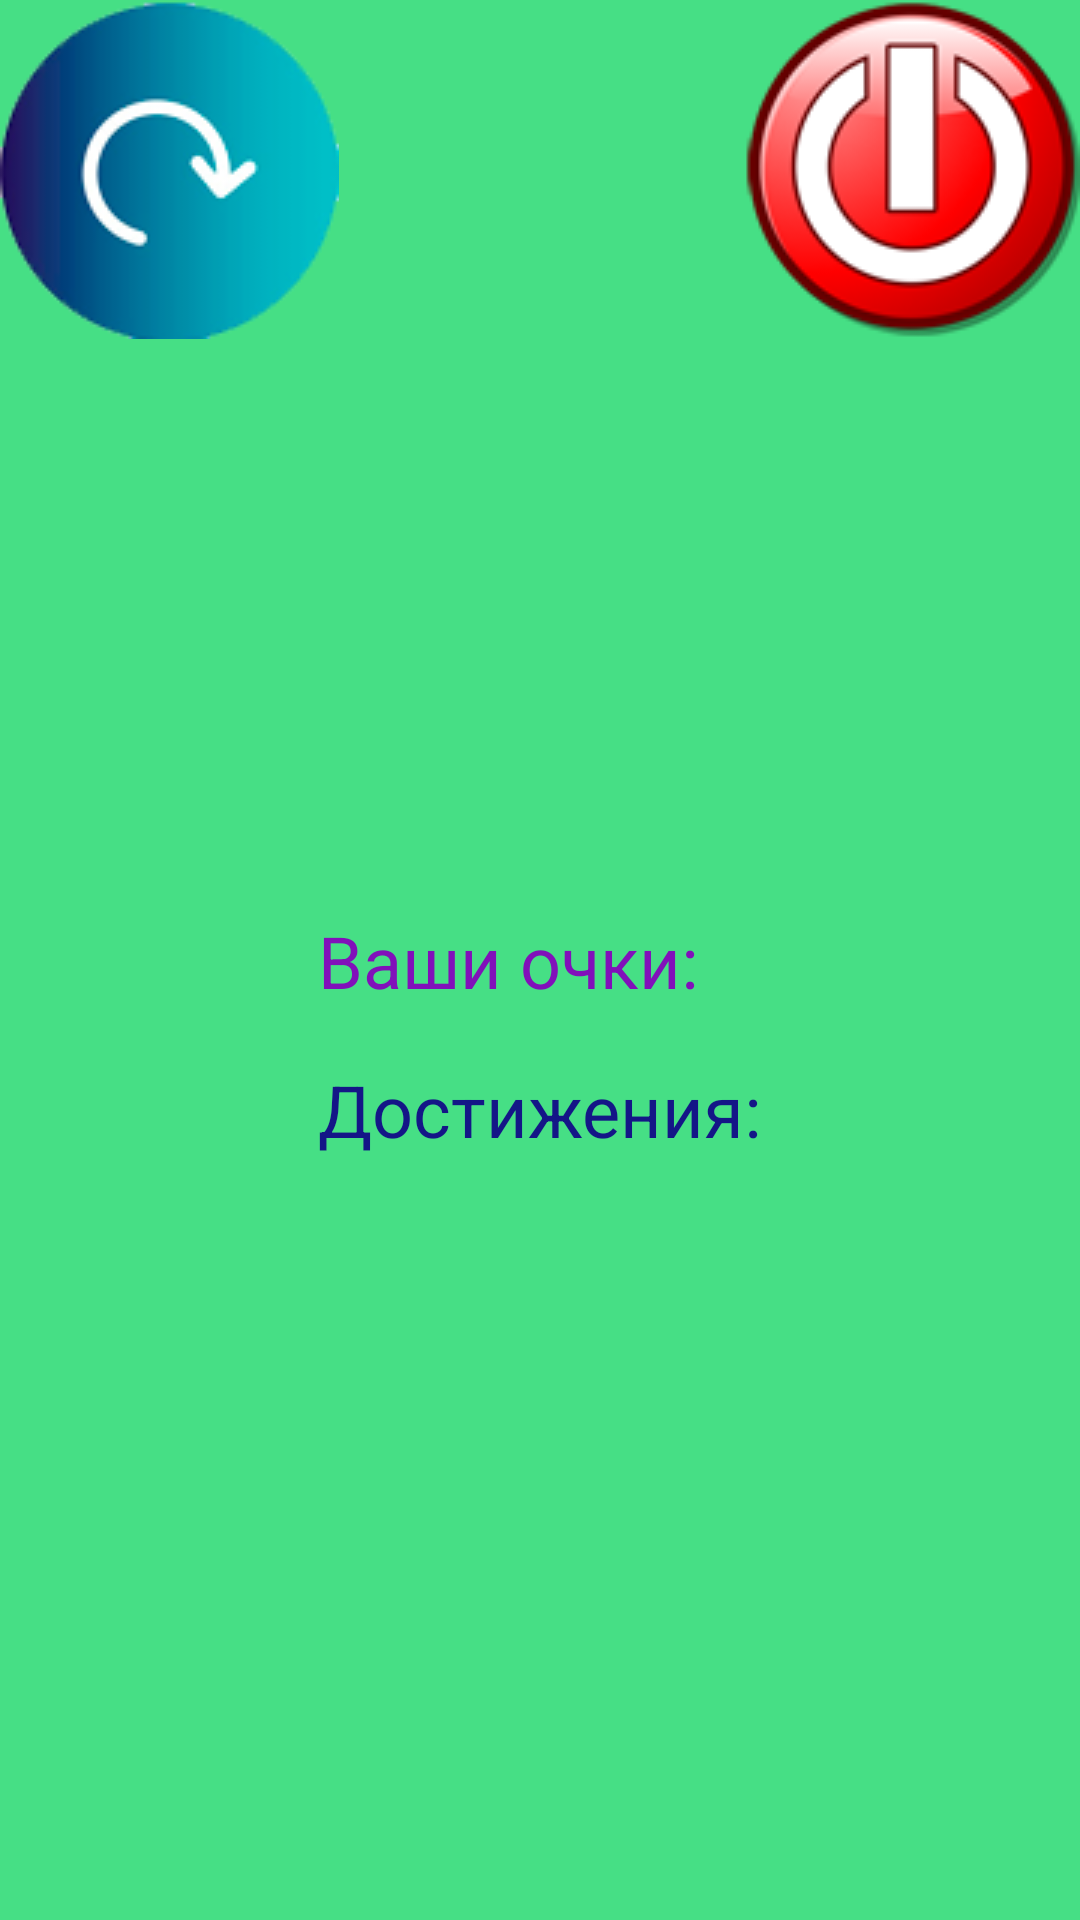

Icon click points for this 1080w x 1920h phone screenshot, format [x,y]:
exit: [913,169]
restart: [169,170]
